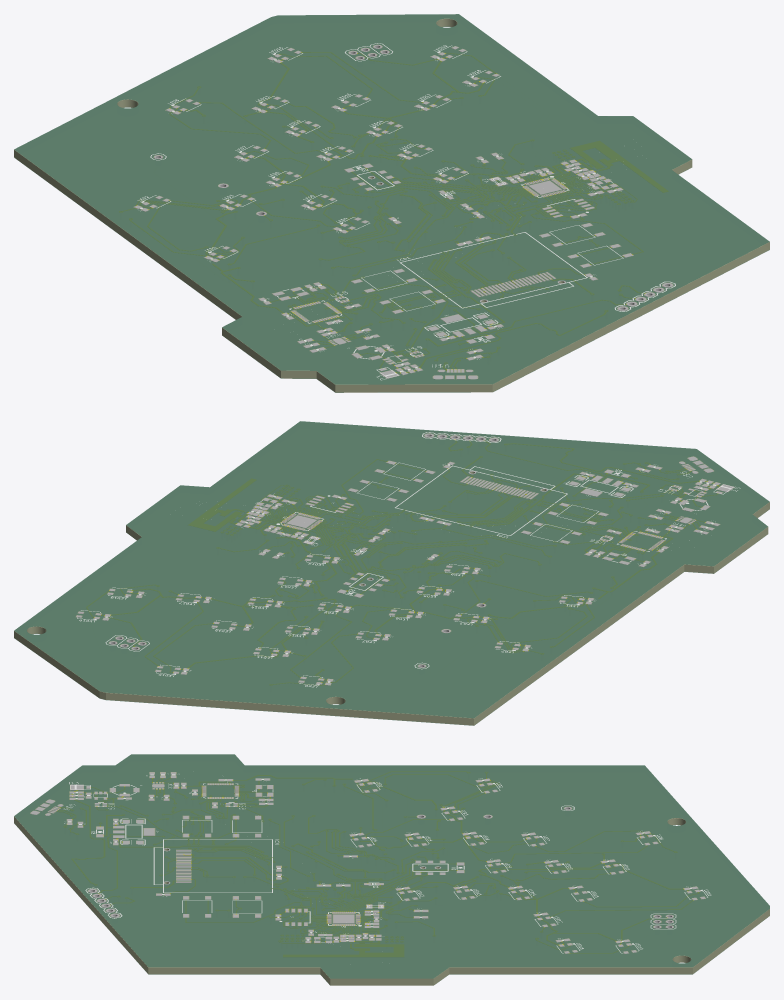
File: hth-elite-2019-badge-2.glb
The picture shows the model from 3 angles, top to bottom: view 1: azimuth 30°, elevation 25°; view 2: azimuth 150°, elevation 25°; view 3: azimuth 270°, elevation 25°; orthographic projection. The views are drawn at different scales.
Parts seen in each view (by area): view 1: =>[0:1:1:7], =>[0:1:1:9], =>[0:1:1:2], =>[0:1:1:5]; view 2: =>[0:1:1:7], =>[0:1:1:9], =>[0:1:1:2], =>[0:1:1:5]; view 3: =>[0:1:1:7], =>[0:1:1:9], =>[0:1:1:2], =>[0:1:1:5].
Part boxes in pixels (<box>): =>[0:1:1:7]: <box>14,14,769,392</box>; =>[0:1:1:9]: <box>14,15,769,392</box>; =>[0:1:1:2]: <box>119,45,672,379</box>; =>[0:1:1:5]: <box>137,43,675,380</box>; =>[0:1:1:7]: <box>14,421,769,725</box>; =>[0:1:1:9]: <box>14,422,769,725</box>; =>[0:1:1:2]: <box>76,433,734,685</box>; =>[0:1:1:5]: <box>77,432,740,687</box>; =>[0:1:1:7]: <box>14,754,769,984</box>; =>[0:1:1:9]: <box>14,755,769,985</box>; =>[0:1:1:2]: <box>30,772,705,956</box>; =>[0:1:1:5]: <box>64,774,711,953</box>.
Bounding box in the file's own units: 0.108 × 0.00166 × 0.1538.
Materials: 4 (4 with a texture image).
